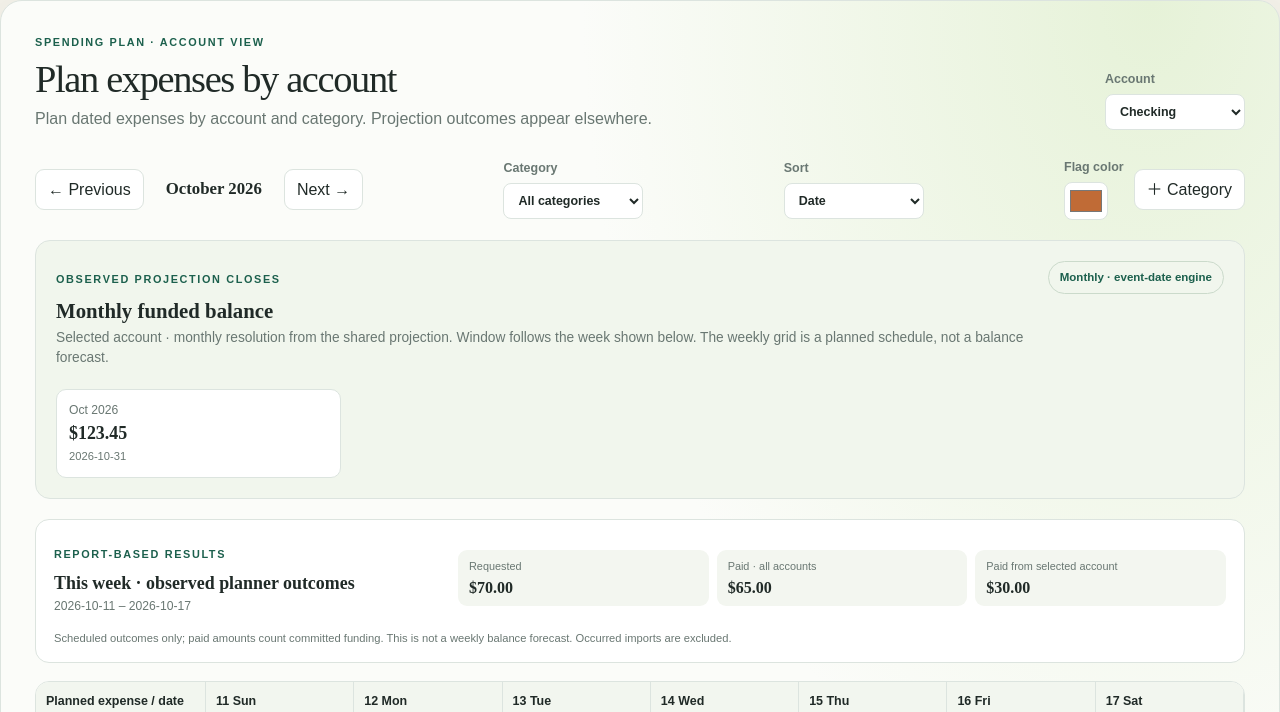
Test case: AccountExpensesPlanner › sums only unique selected-week planned outcomes from the report, including fallback sources
The width and height of the screenshot is (1280, 712).
Expected: the heading "This week · observed planner outcomes" is shown, x1=54 y1=573 x2=355 y2=593
Expected: the text "$70.00" is shown, x1=469 y1=579 x2=513 y2=596
Click the button "Next →" at [324, 189], box x1=284 y1=169 x2=363 y2=210
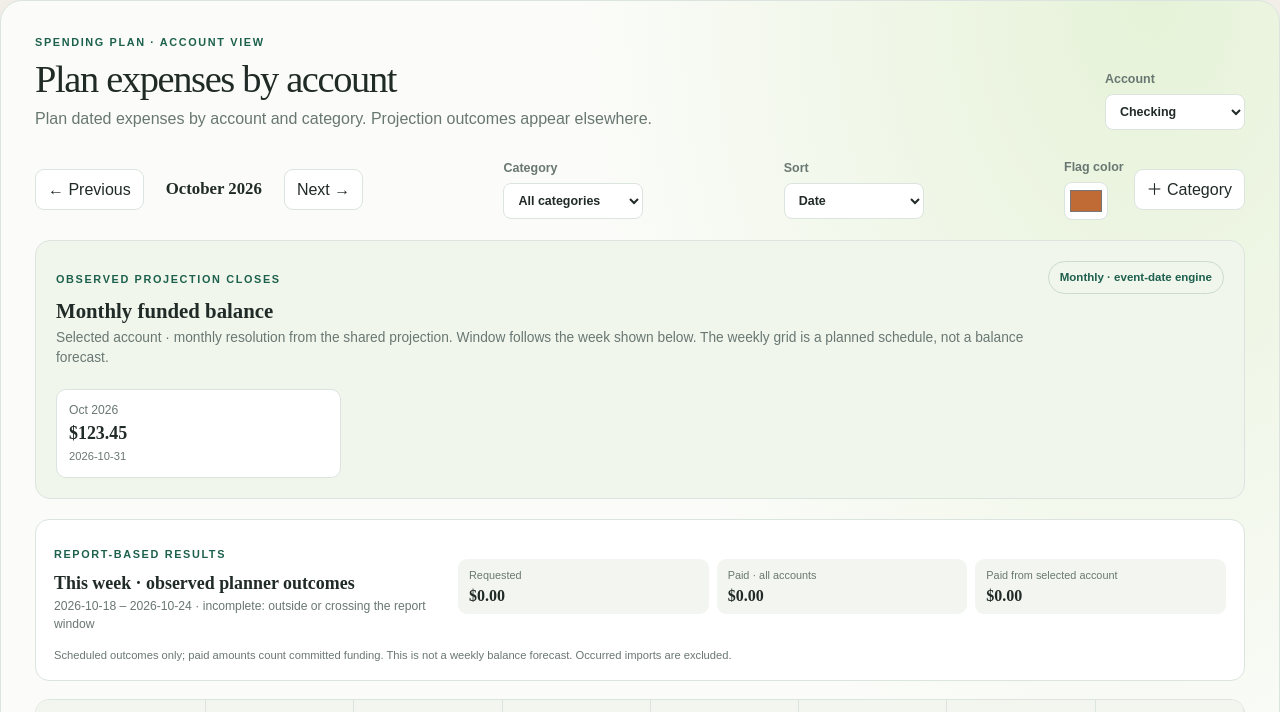
Expected: the heading "This week · observed planner outcomes" is shown, x1=54 y1=573 x2=355 y2=593
Expected: the text "2026-10-18 – 2026-10-24 · incomplete: outside or crossing the report window" is shown, x1=54 y1=598 x2=438 y2=634
